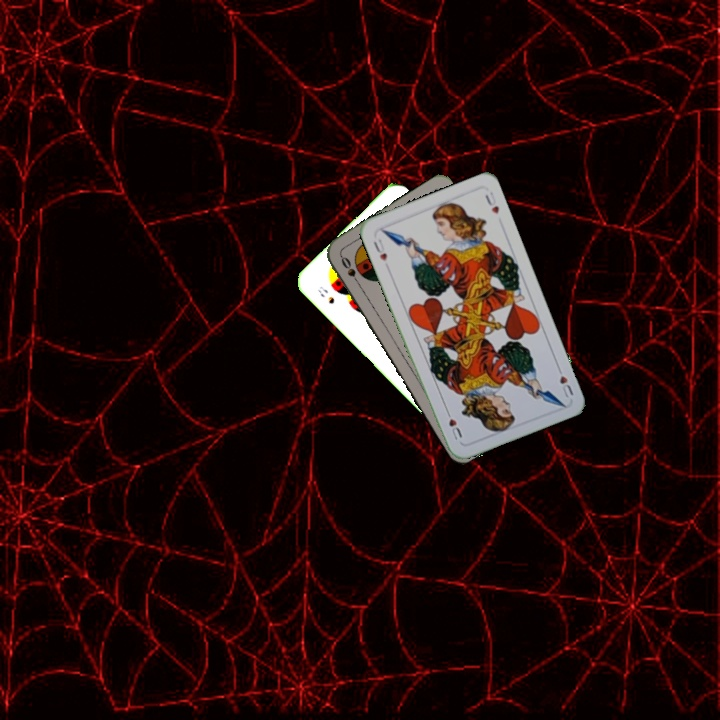HU: (553, 361, 576, 400), (369, 235, 390, 264)
S8: (314, 282, 337, 306)
SO: (337, 252, 363, 289)
